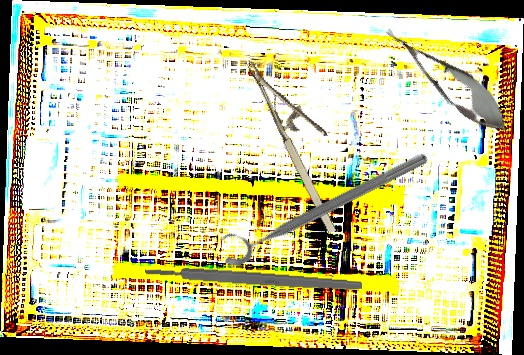Fixation Ring: (212, 136, 432, 271)
Micro Scissor: (374, 15, 521, 144)
Needle Holder: (246, 45, 365, 237)
Scalpel Handle: (144, 264, 363, 293)
